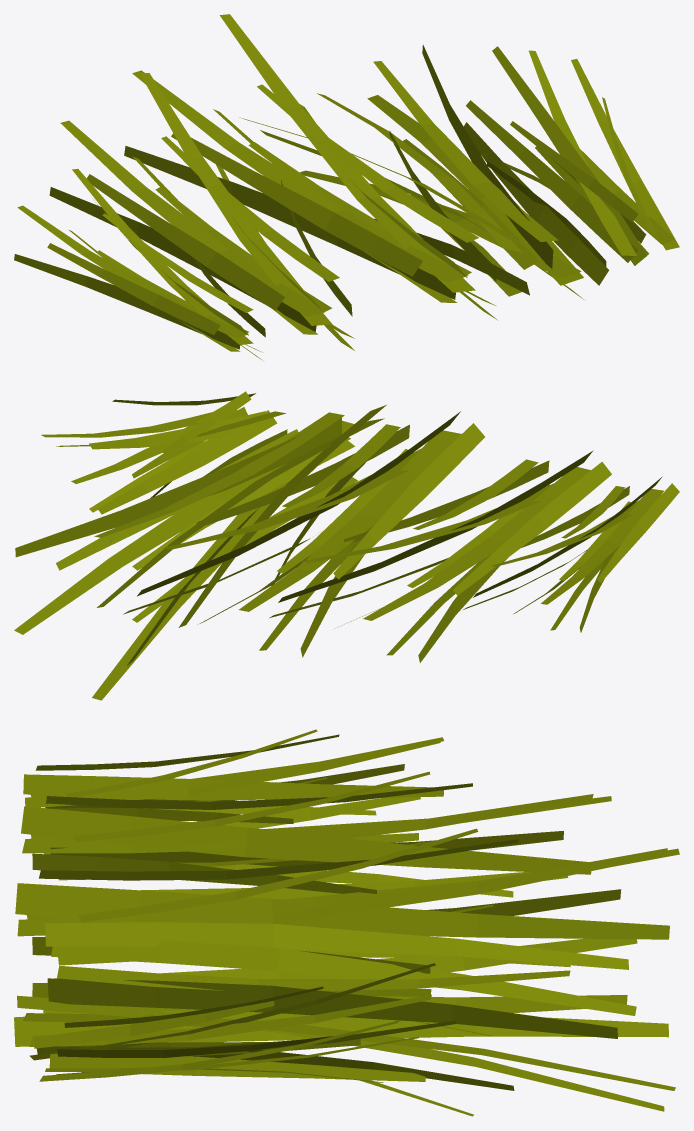
The model's file is grass_patch.fbx.
3 views of the same model, one above another, from view 1: azimuth 30°, elevation 25°; view 2: azimuth 150°, elevation 25°; view 3: azimuth 270°, elevation 25° (orthographic). The views are drawn at different scales.
Parts seen in each view (by area): view 1: grass_patch_1; view 2: grass_patch_1; view 3: grass_patch_1.
Boxes of the visible parts, x1,y1,x2,y2 form: grass_patch_1: (14,14,679,360); grass_patch_1: (14,391,679,700); grass_patch_1: (14,729,679,1116).
Size of the model in its own units: 137 by 162 by 48.51.
